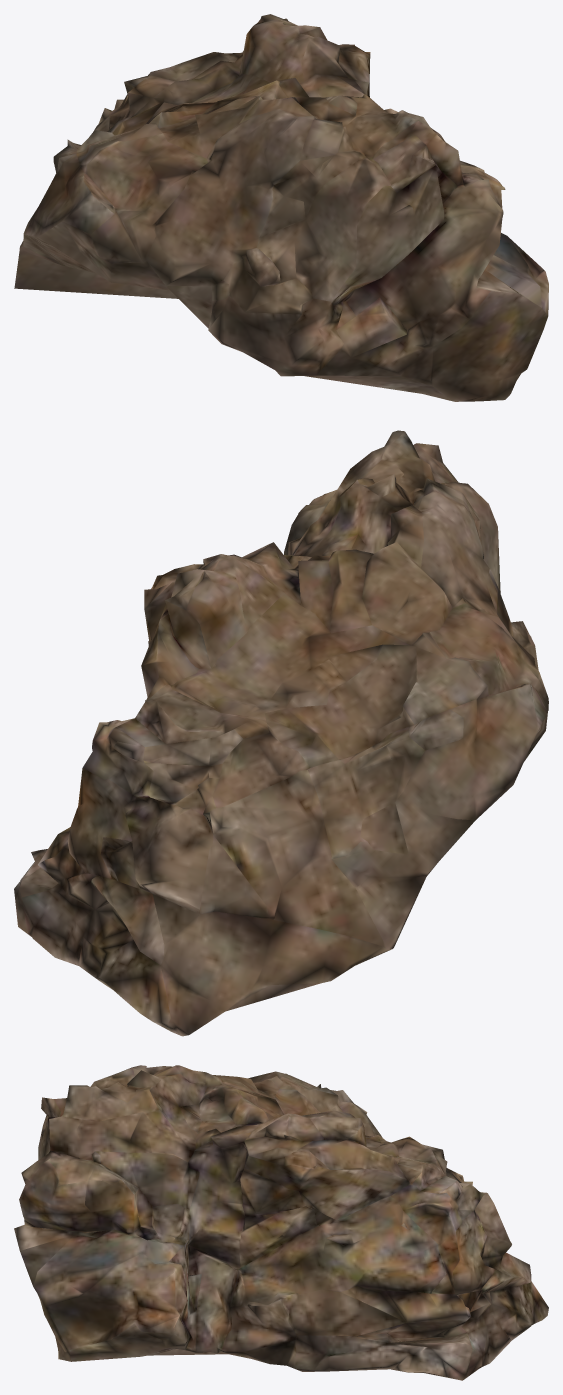
File: boulder_01_lod1.glb
3 views of the same model, one above another, from view 1: azimuth 30°, elevation 25°; view 2: azimuth 150°, elevation 25°; view 3: azimuth 270°, elevation 25° (orthographic). The views are drawn at different scales.
Parts seen in each view (by area): view 1: boulder_01; view 2: boulder_01; view 3: boulder_01.
Part boxes in pixels (x1,y1,x2,y2): boulder_01: (14, 14, 548, 401); boulder_01: (14, 430, 548, 1036); boulder_01: (14, 1065, 548, 1380).
Size of the model in its own units: 1.26 by 0.9959 by 1.82.
1 material, 1 textured.
